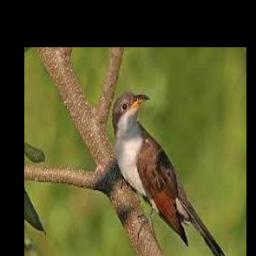Cuckoo: (112, 93, 231, 256)
